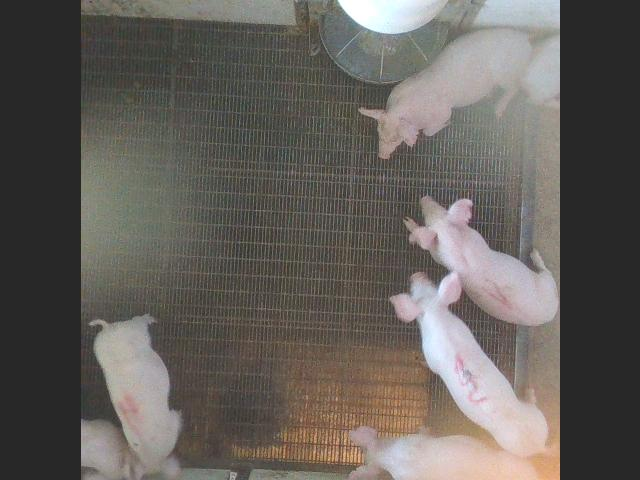pig-1: (402, 196, 557, 326)
pig-3: (389, 272, 547, 456)
pig-4: (91, 314, 179, 480)
